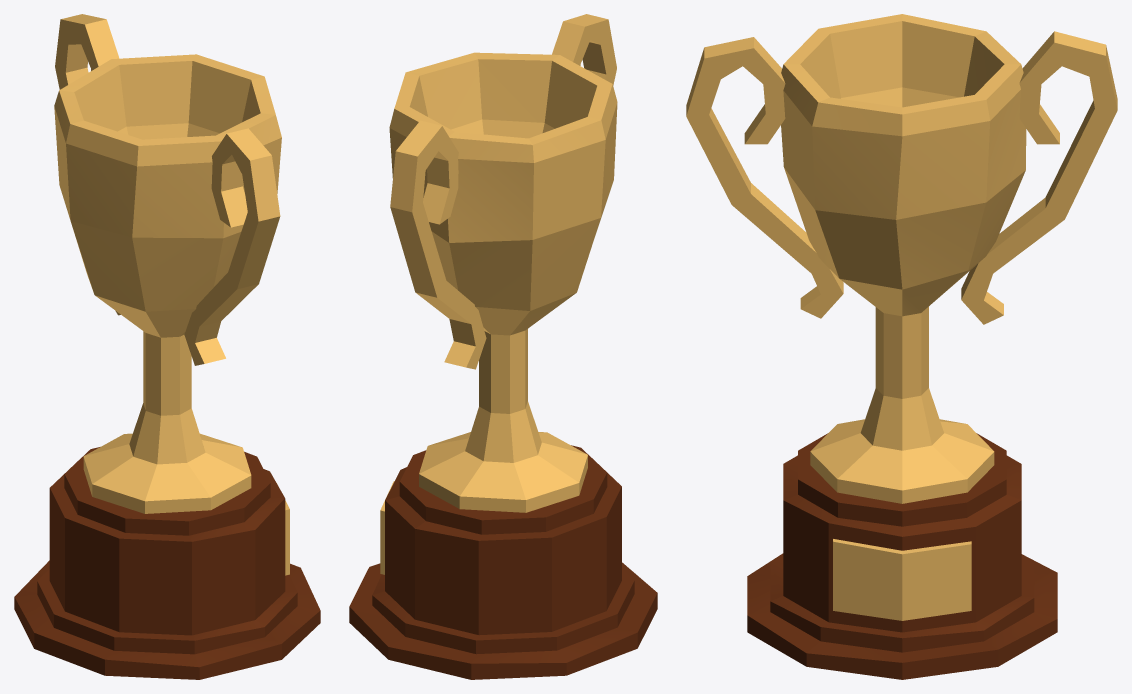
The model's file is a_cool_little_cup_just_for_fun.glb.
3 renders of one model, left to right at view 1: azimuth 30°, elevation 25°; view 2: azimuth 150°, elevation 25°; view 3: azimuth 270°, elevation 25°, orthographic. The views are drawn at different scales.
Visible parts, largest first — view 1: polySurface6, polySurface5, polySurface3, polySurface4; view 2: polySurface6, polySurface5, polySurface4, polySurface3; view 3: polySurface6, polySurface5, polySurface4, polySurface3.
Part boxes in pixels (x1,y1,x2,y2): polySurface6: (54, 54, 289, 575); polySurface5: (14, 447, 320, 679); polySurface3: (184, 128, 280, 365); polySurface4: (55, 14, 120, 315); polySurface6: (380, 52, 617, 574); polySurface5: (349, 445, 657, 679); polySurface4: (390, 120, 486, 369); polySurface3: (552, 14, 616, 85); polySurface6: (781, 14, 1026, 620); polySurface5: (747, 433, 1057, 679); polySurface4: (961, 31, 1117, 324); polySurface3: (686, 37, 843, 318).
Bounding box in the file's own units: 1.73 × 3.37 × 2.29.
